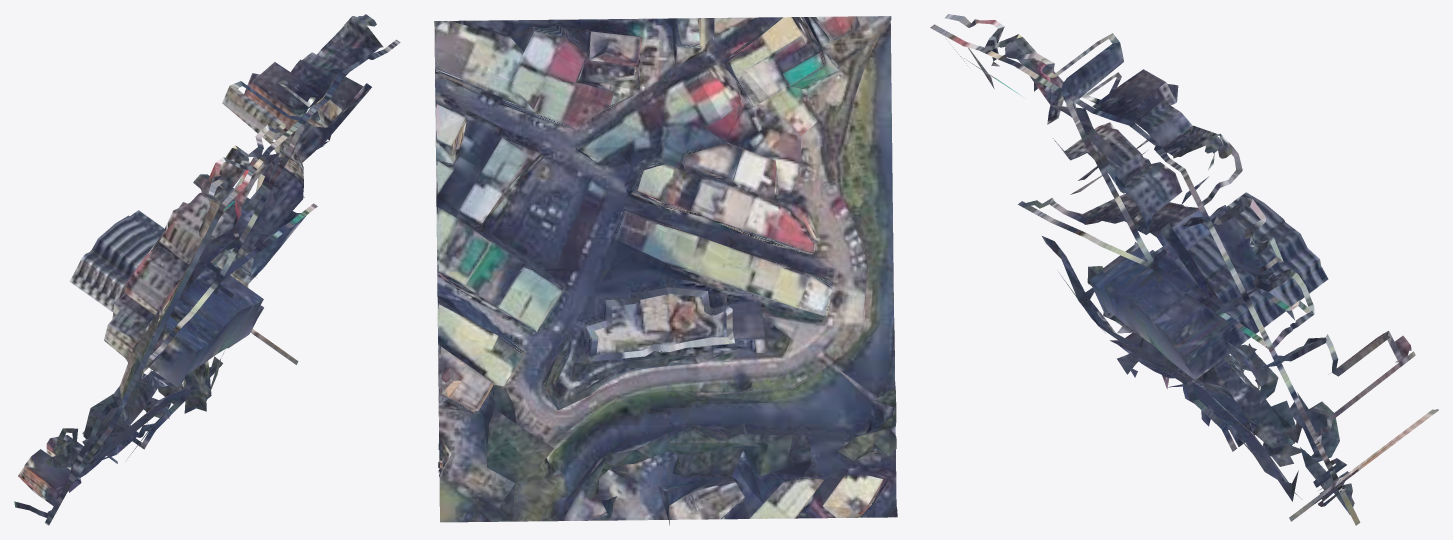
3 views of the same model, side by side, from view 1: azimuth 30°, elevation 25°; view 2: azimuth 150°, elevation 25°; view 3: azimuth 270°, elevation 25° (orthographic). The views are drawn at different scales.
Bounding box in the file's own units: 158 × 151 × 159.
Materials: 1 (1 with a texture image).
